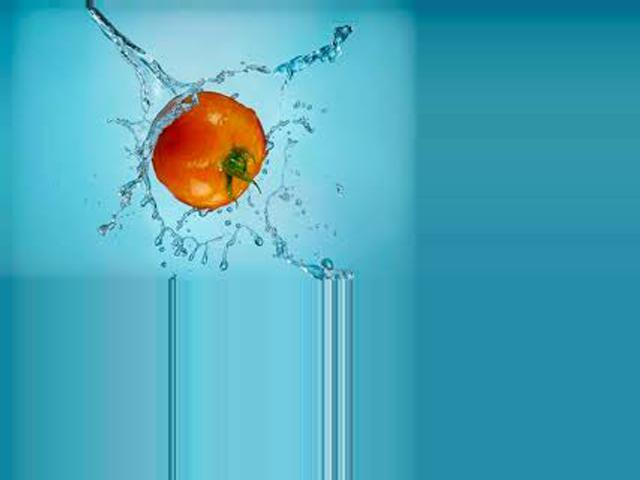tomato: (149, 91, 264, 210)
